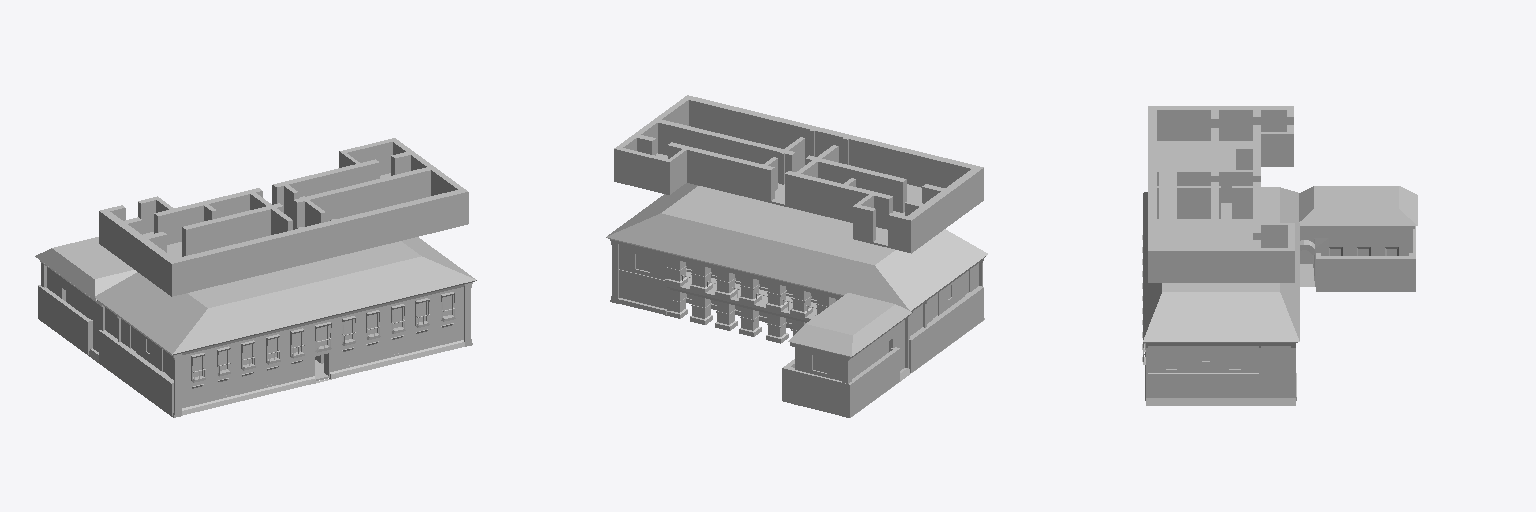
File: Museuporta.obj
3 views of the same model, side by side, from view 1: azimuth 30°, elevation 25°; view 2: azimuth 150°, elevation 25°; view 3: azimuth 270°, elevation 25° (orthographic).
Visible parts, largest first — view 1: Cube, Cubo.001_Cubo.002, Cubo, Cubo.002_Cubo.003; view 2: Cube, Cubo.001_Cubo.002, Cubo, Cubo.002_Cubo.003; view 3: Cube, Cubo.001_Cubo.002, Cubo.002_Cubo.003, Cubo.
Boxes of the visible parts, <box> form: Cube: <box>35,237,476,417</box>; Cubo.001_Cubo.002: <box>99,138,468,296</box>; Cubo: <box>99,326,451,415</box>; Cubo.002_Cubo.003: <box>38,285,92,354</box>; Cube: <box>606,183,987,417</box>; Cubo.001_Cubo.002: <box>614,95,983,253</box>; Cubo: <box>619,268,983,372</box>; Cubo.002_Cubo.003: <box>782,347,899,417</box>; Cube: <box>1142,186,1417,405</box>; Cubo.001_Cubo.002: <box>1148,106,1294,282</box>; Cubo.002_Cubo.003: <box>1316,226,1415,291</box>; Cubo: <box>1148,369,1290,397</box>.
Bounding box in the file's own units: 7.95 × 3.83 × 6.21.